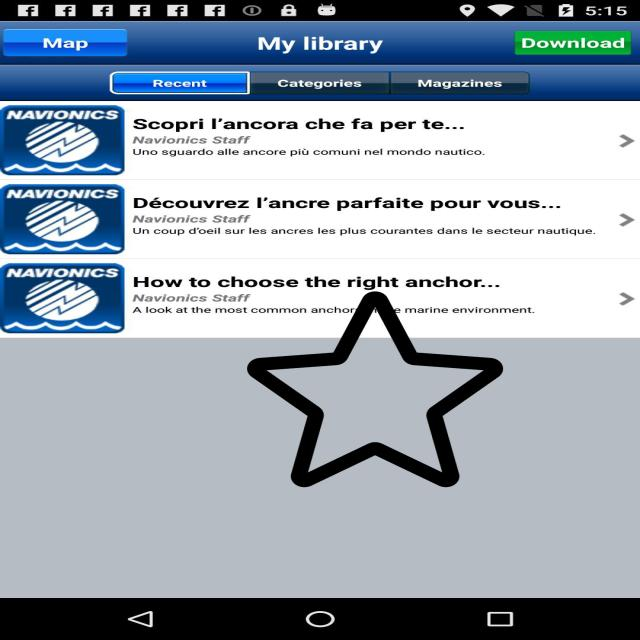forced continuity: (247, 287, 503, 491)
